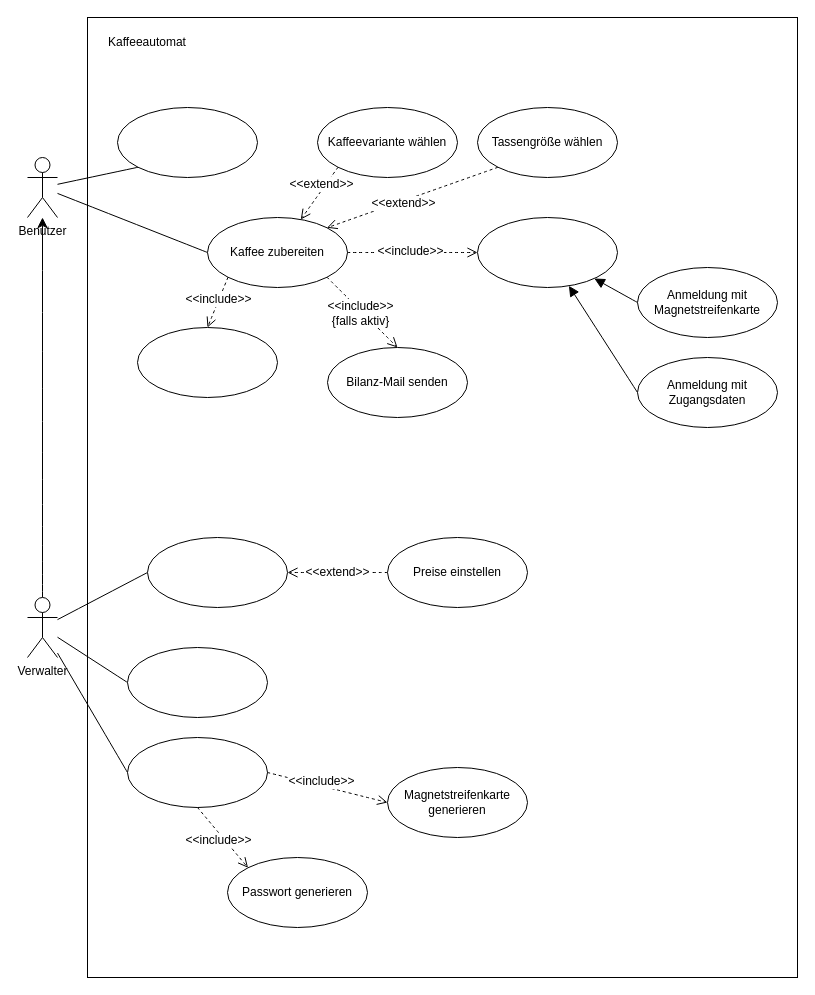
This 815x995 diagram has some shape labels left out. The centre of each missing label's shape, as x and y in pixels:
Authentifizieren: point 547,252
Benutzer anlegen: point 197,772
Bilanz-Mail de-/aktivieren: point 187,142
Kaffeeverbrauch registrieren: point 207,362
Rechnung verschicken: point 197,682
Wartungsmodus aktivieren: point 217,572
